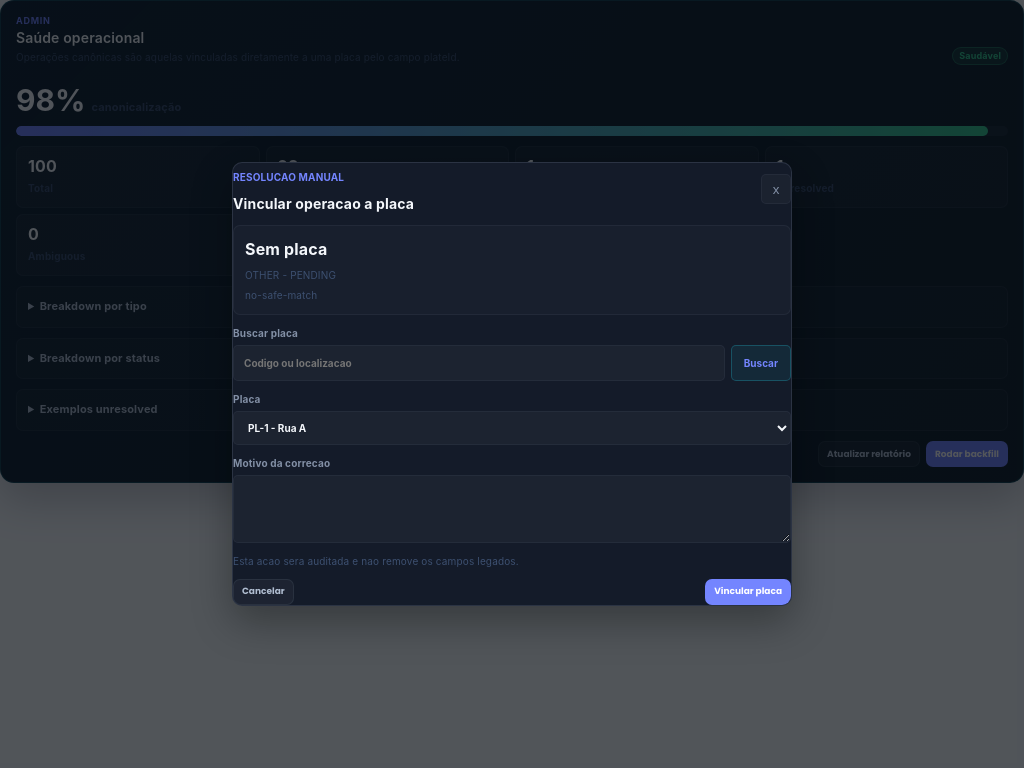
Scenario: OperationCanonicalizationCard › mostra erro do submit no modal
Earlier steps of the test are not shown.
Type "Conferencia manual" into the text box labelled "Motivo da correcao" at (512, 509), box [233,475,791,543]
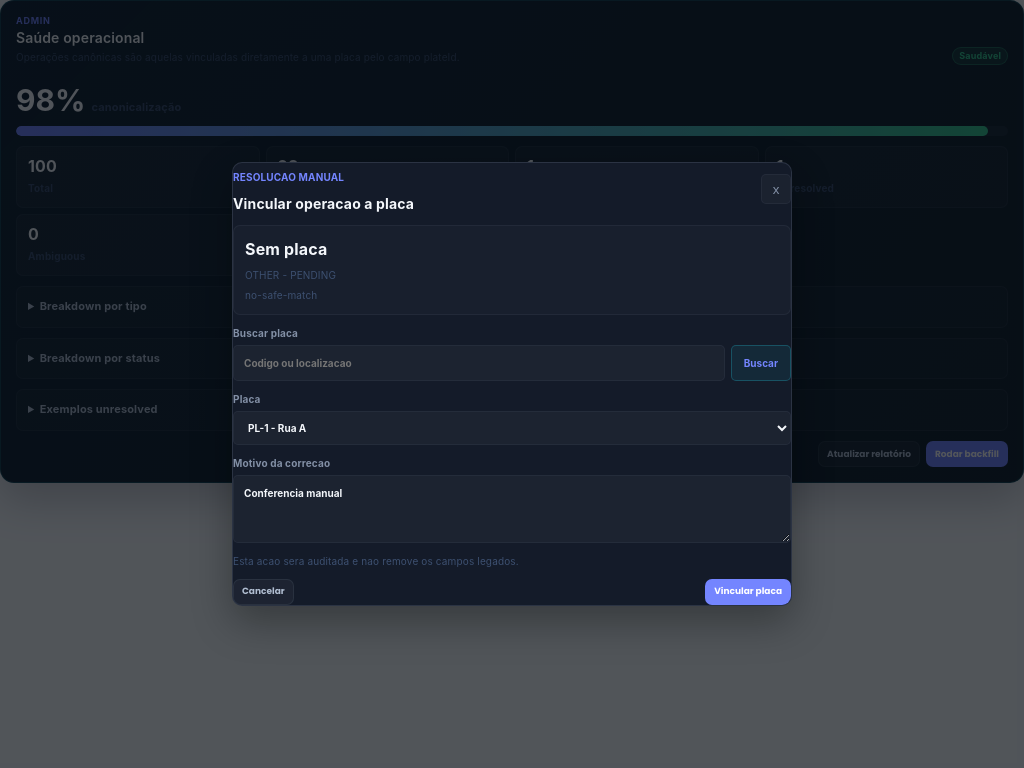
Click the button "Vincular placa" at (748, 592), box [705,579,791,605]
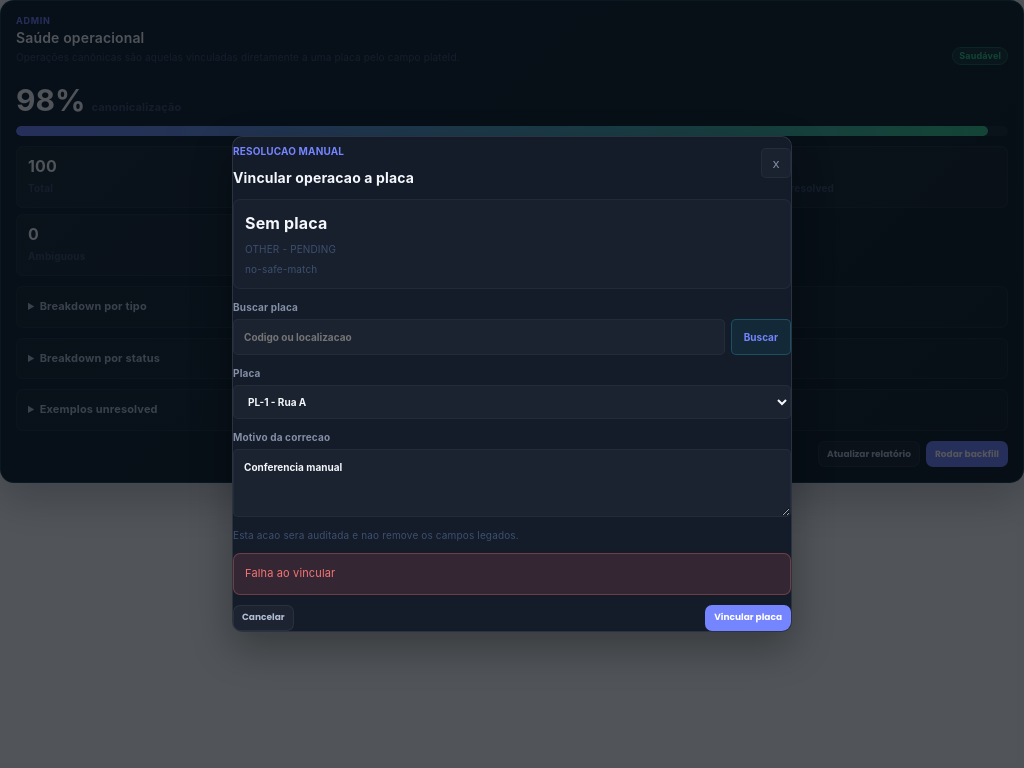
Expected: the message reads "Falha ao vincular", [245,566,335,580]
